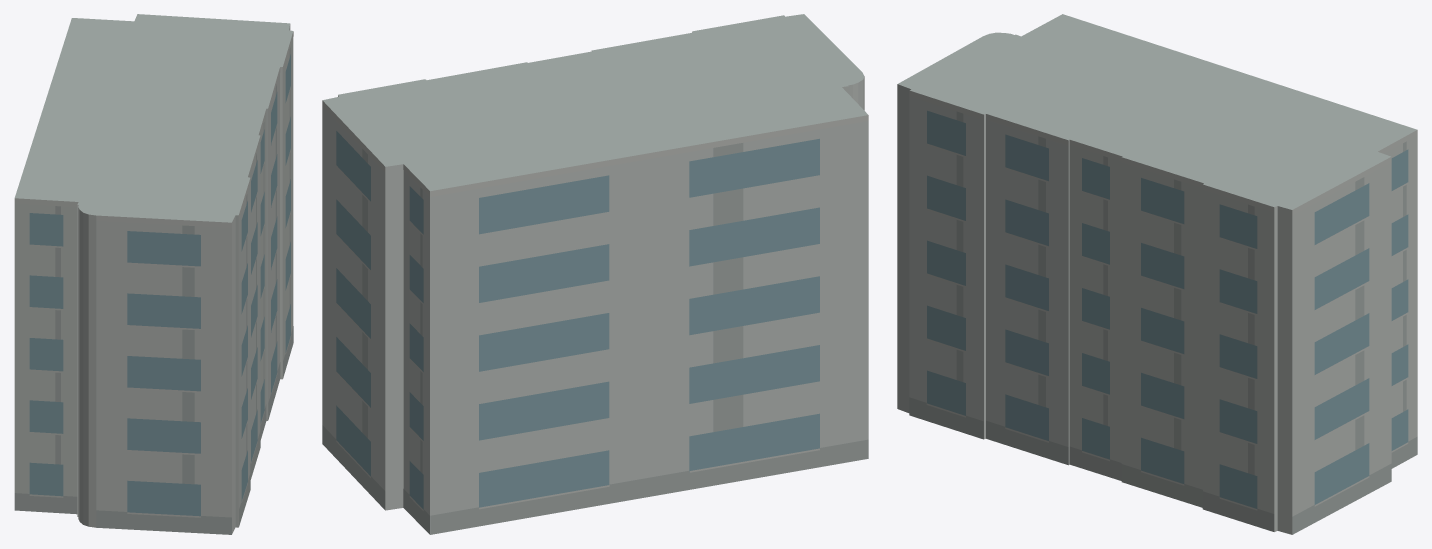
File: survey-upis-32668308.glb
3 renders of one model, left to right at view 1: azimuth 30°, elevation 25°; view 2: azimuth 150°, elevation 25°; view 3: azimuth 270°, elevation 25°, orthographic. The views are drawn at different scales.
Visible parts, largest first — view 1: survey-upis-32668308.tmp; view 2: survey-upis-32668308.tmp; view 3: survey-upis-32668308.tmp.
Boxes of the visible parts, x1,y1,x2,y2 form: survey-upis-32668308.tmp: [14, 14, 293, 534]; survey-upis-32668308.tmp: [322, 14, 868, 534]; survey-upis-32668308.tmp: [897, 14, 1417, 534].
Bounding box in the file's own units: 18.2 × 14.06 × 20.41.
